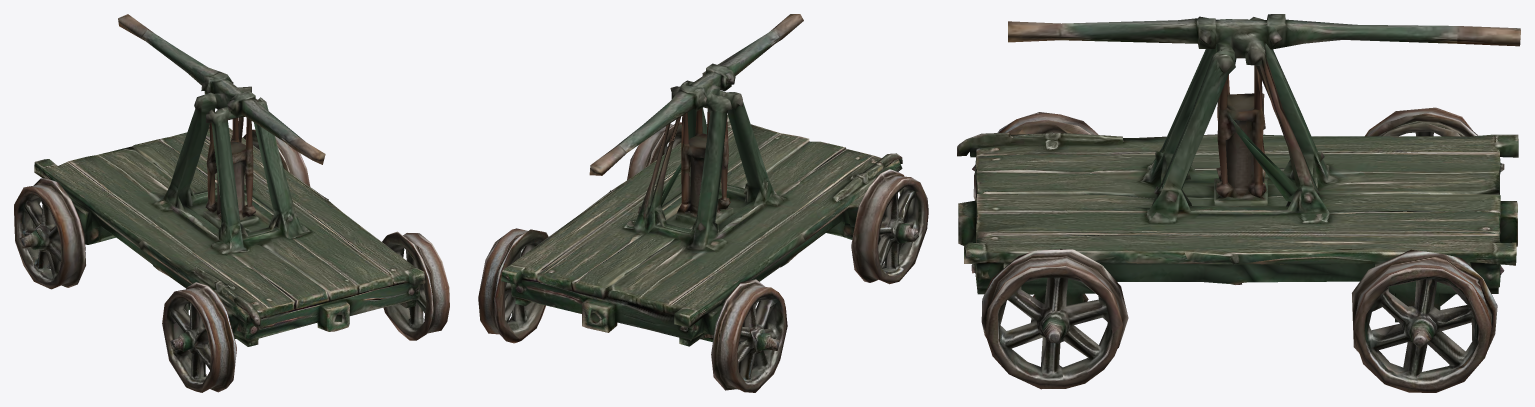
File: prop_handcar.glb
3 views of the same model, side by side, from view 1: azimuth 30°, elevation 25°; view 2: azimuth 150°, elevation 25°; view 3: azimuth 270°, elevation 25° (orthographic). The views are drawn at different scales.
Parts seen in each view (by area): view 1: tripo_node_5bb63e1a-35c0-4533-850c-0ed1ee50cd3b; view 2: tripo_node_5bb63e1a-35c0-4533-850c-0ed1ee50cd3b; view 3: tripo_node_5bb63e1a-35c0-4533-850c-0ed1ee50cd3b.
Part boxes in pixels (x1,y1,x2,y2): tripo_node_5bb63e1a-35c0-4533-850c-0ed1ee50cd3b: (14,14,449,392); tripo_node_5bb63e1a-35c0-4533-850c-0ed1ee50cd3b: (478,14,928,392); tripo_node_5bb63e1a-35c0-4533-850c-0ed1ee50cd3b: (957,14,1520,392).
Bounding box in the file's own units: 0.734 × 0.5652 × 0.9797.
1 material, 1 textured.
